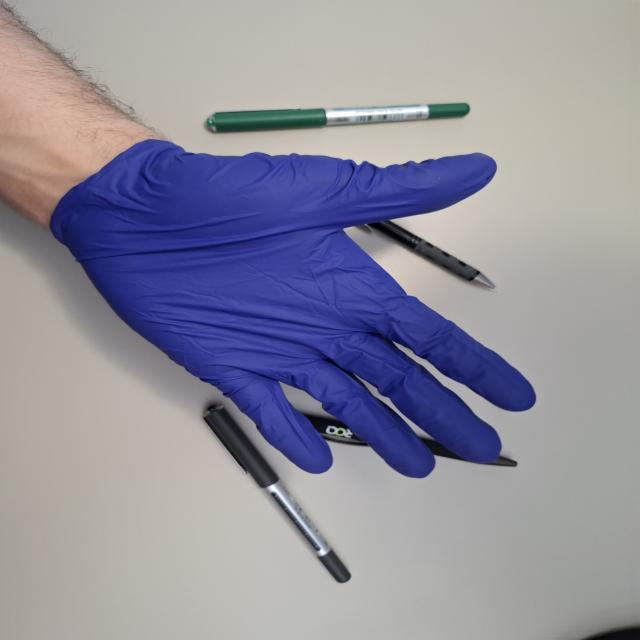glove_on: (42, 130, 542, 481)
